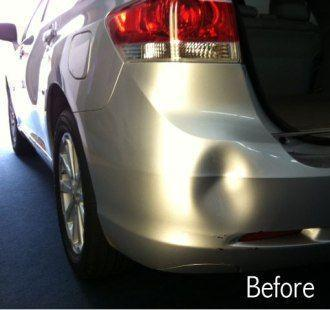dent: (182, 133, 279, 248)
